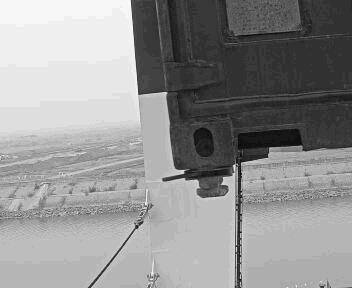twist_lock_1: (143, 160, 212, 206)
